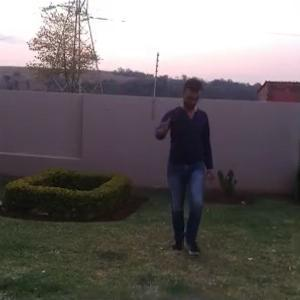takeoff-hand: (151, 104, 178, 140)
